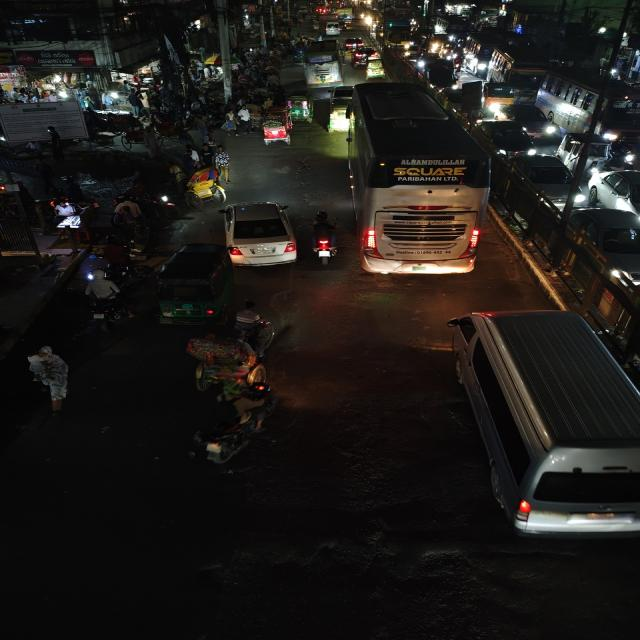bus: (348, 81, 489, 276), (538, 70, 640, 134), (301, 40, 346, 88)
car: (442, 302, 640, 544), (570, 205, 640, 293), (218, 202, 300, 268), (505, 155, 586, 210), (493, 103, 561, 140), (486, 119, 532, 157)
cng: (161, 243, 229, 322), (562, 128, 607, 175)
motorcycle: (194, 380, 286, 484), (86, 269, 143, 338), (306, 214, 344, 266), (284, 92, 318, 124), (361, 57, 387, 79)
pedestrian: (13, 340, 84, 417), (213, 146, 234, 183), (238, 105, 254, 134), (226, 110, 239, 136)
rickshaw: (196, 307, 280, 388), (163, 157, 229, 205), (256, 109, 290, 144)
